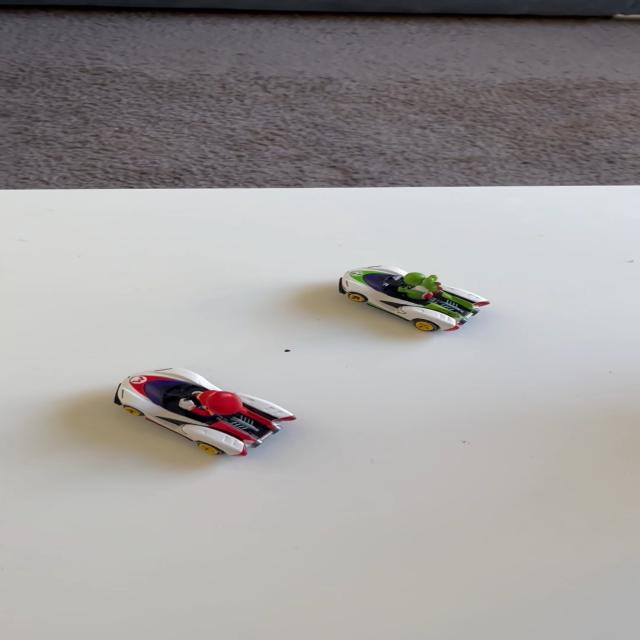mario: (93, 362, 315, 460)
yoshi: (325, 259, 508, 341)
